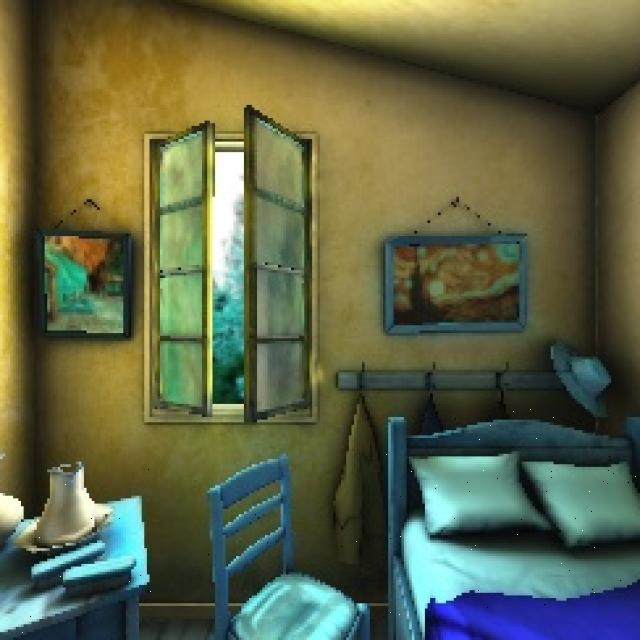bed: (364, 409, 640, 640)
chair: (178, 459, 383, 640)
table: (0, 467, 173, 640)
